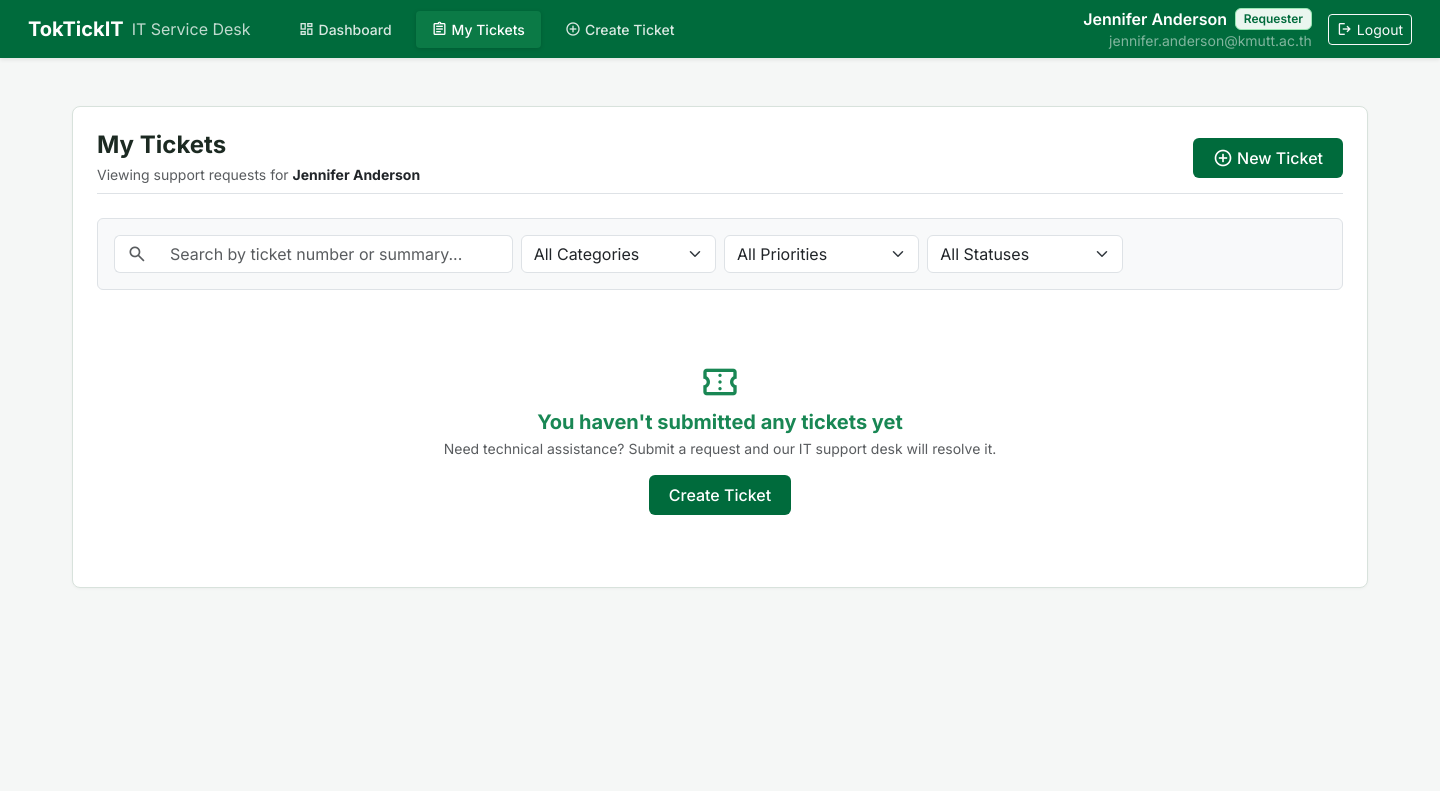
Lab 2 Create Ticket Suite (client/tests/lab-02/CreateTicket.test.tsx) › displays error banner and preserves form values on API error (UI-06, AC-06, BR-07)
Expected: the text "Jennifer Anderson" next to "Requester" is shown, [1083, 9, 1227, 29]
Step 1. Click the button "Create Ticket" in the row of "IT Service Desk" → x=620, y=29, box [549, 11, 690, 48]
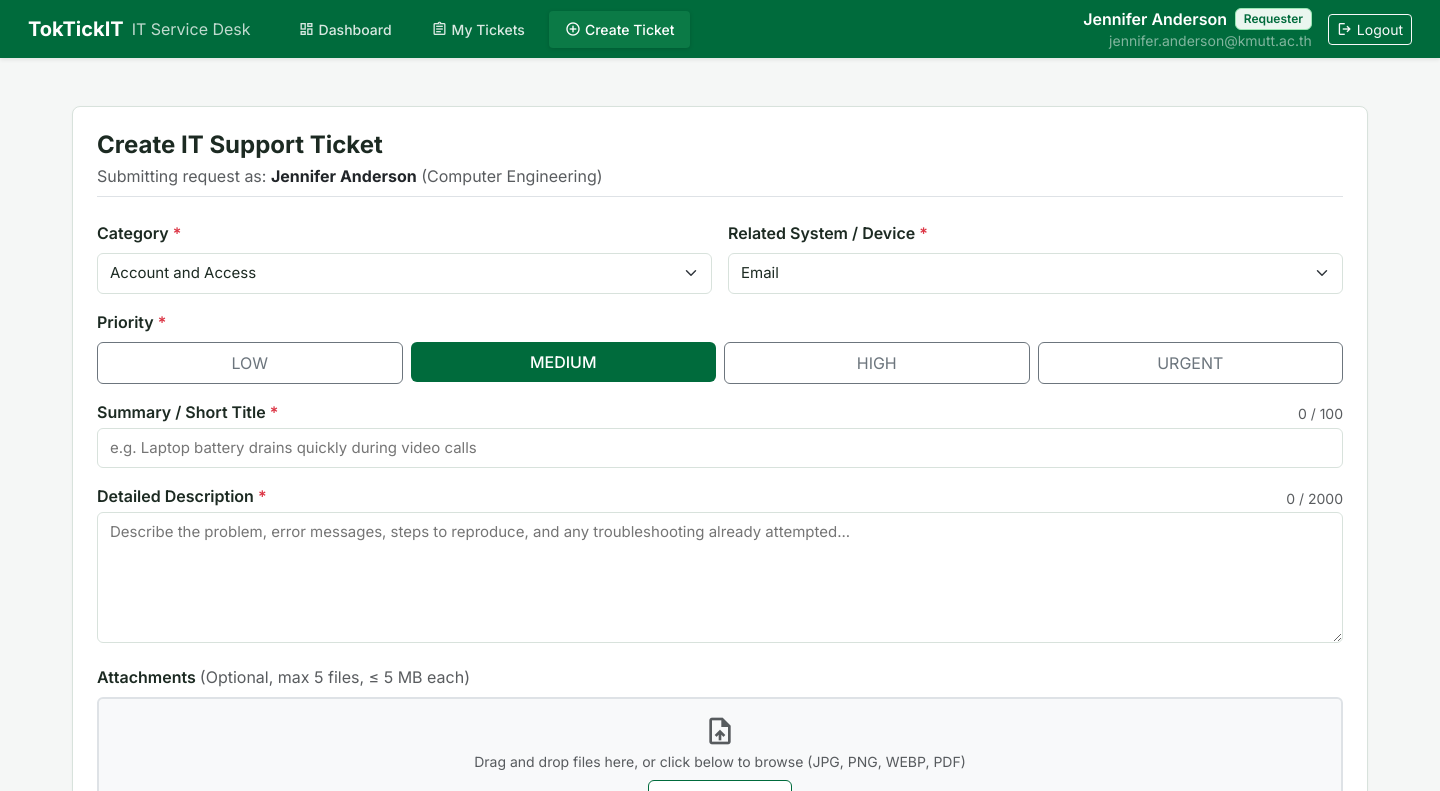
Expected: the field labelled "Summary / Short Title *" is shown
Step 2. Type "Preserved Summary Content" into the field labelled "Summary / Short Title *" → x=720, y=448, box [97, 428, 1343, 468]
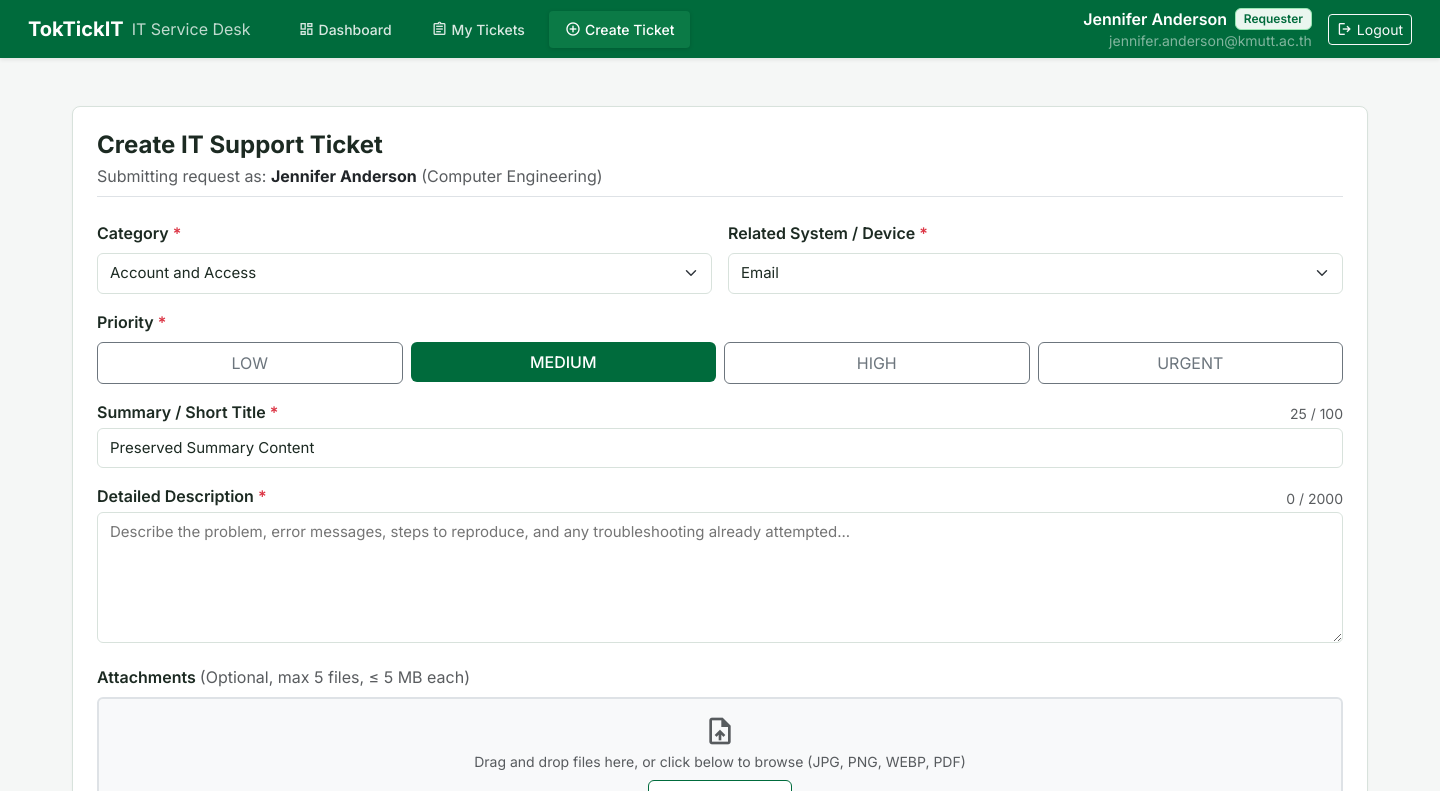
Step 3. Replace the text in the text box labelled "Detailed Description *" with "Preserved detailed description text" → x=720, y=577, box [97, 512, 1343, 643]
(page scrolled)
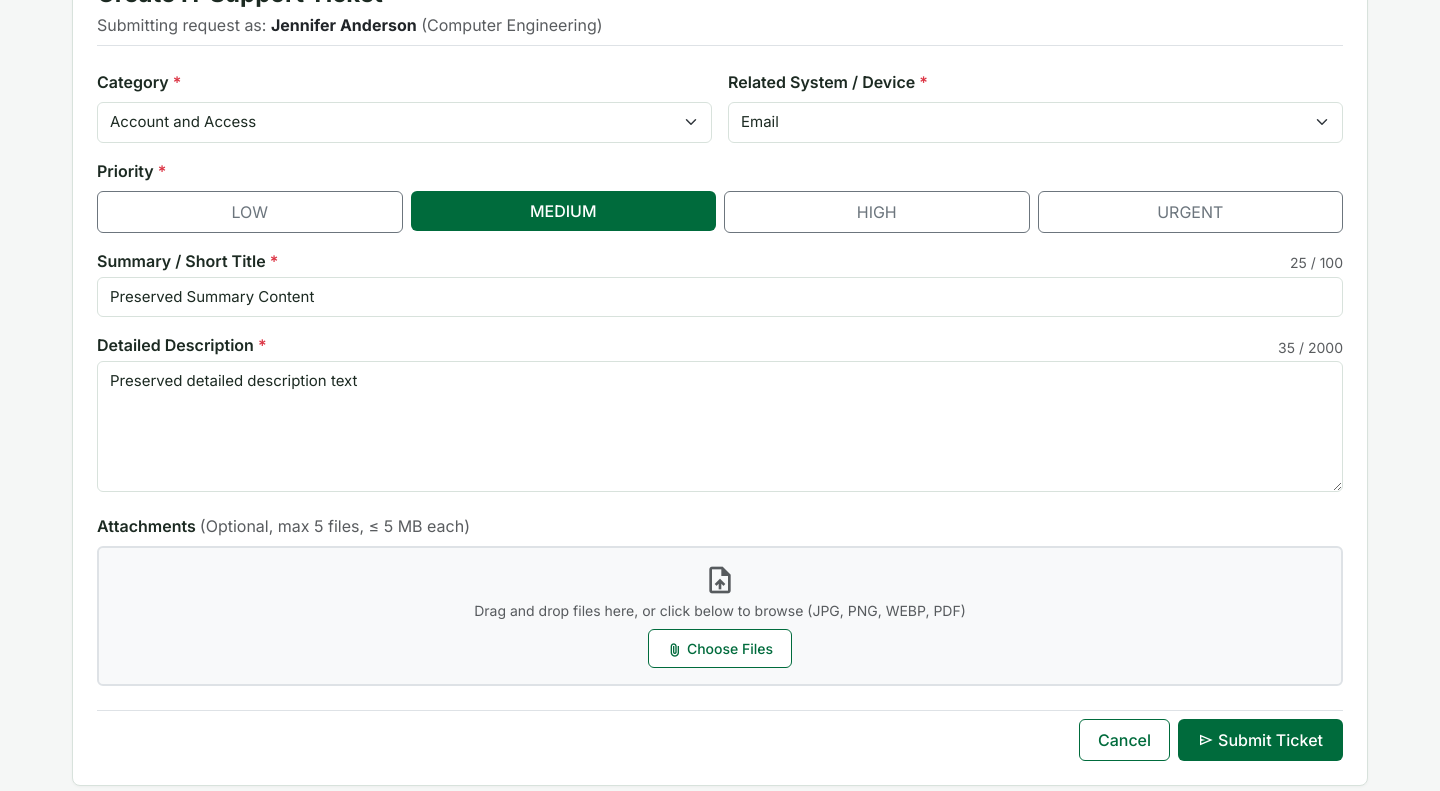
Step 4. Click the button "Submit Ticket" → x=1260, y=740, box [1178, 719, 1343, 761]
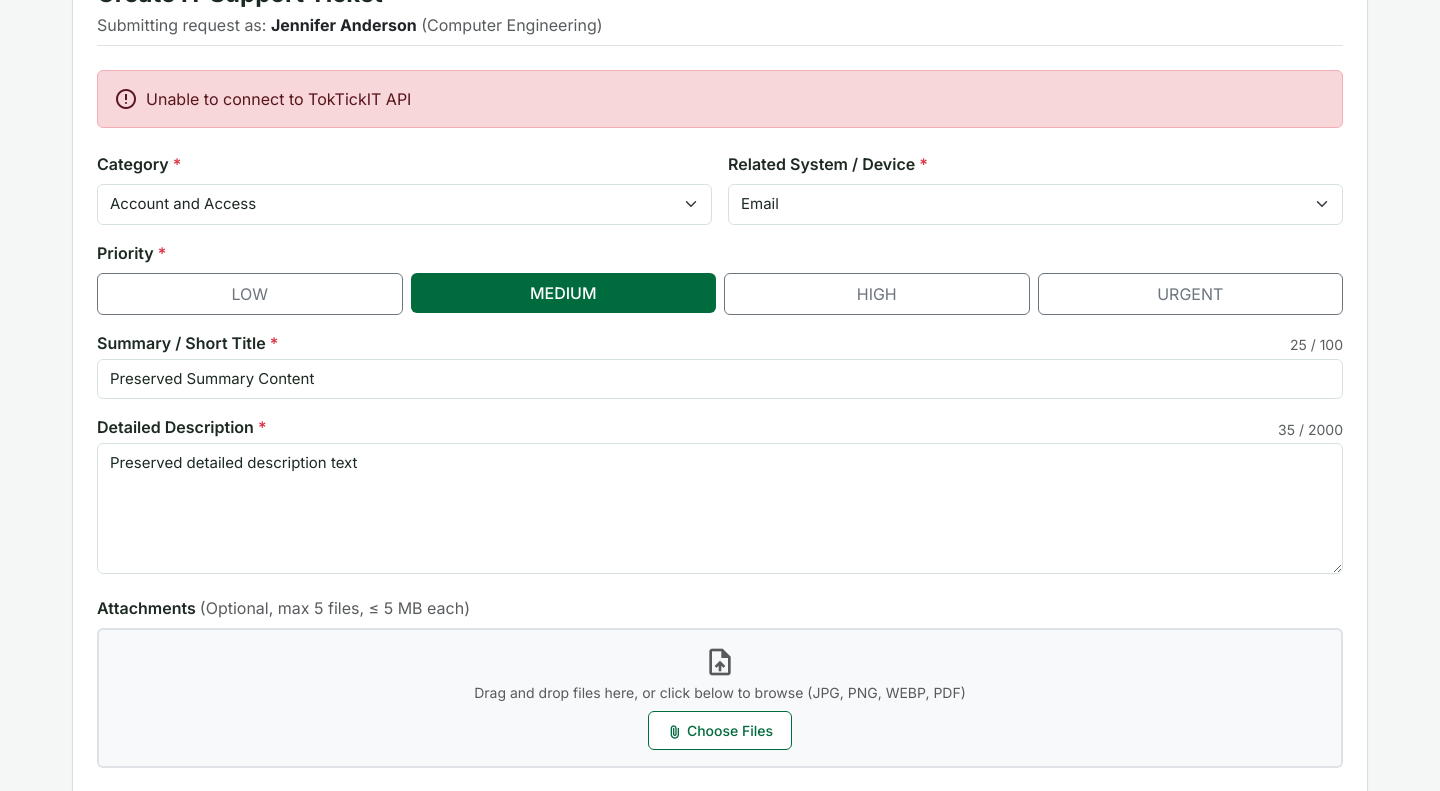
Expected: the text "Unable to connect to TokTickIT API" is shown, [146, 87, 411, 111]
